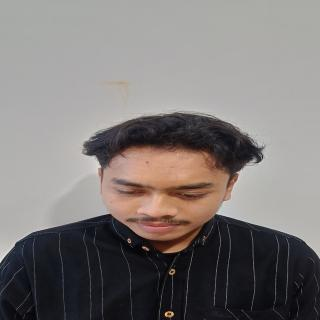Sedih: (95, 144, 234, 246)
